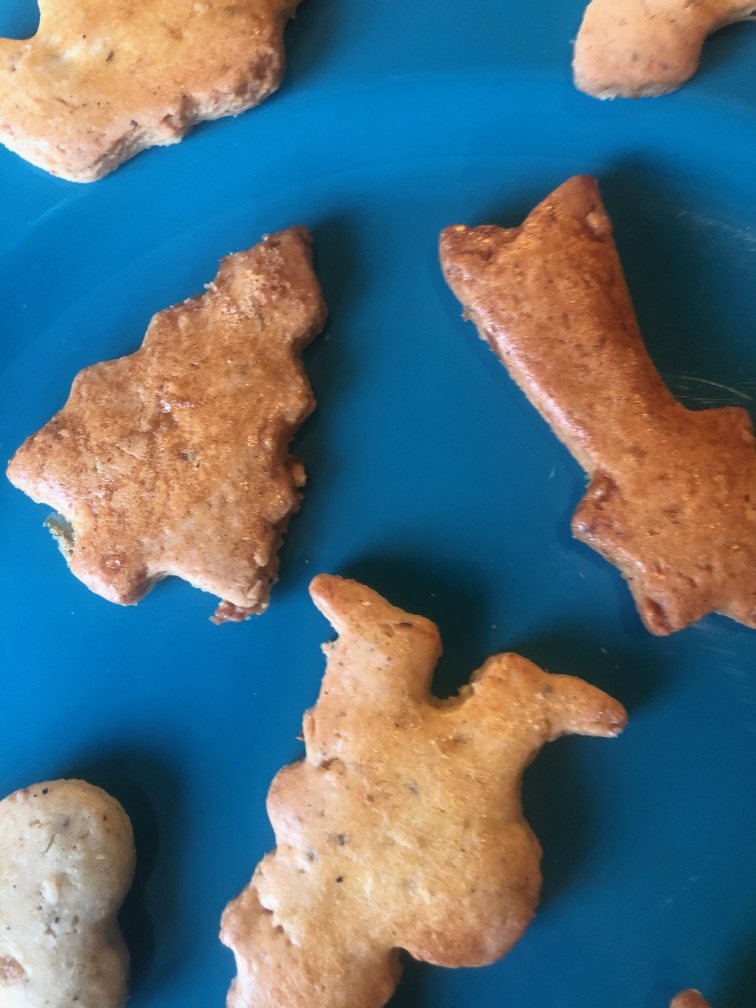christmas tree: (5, 225, 348, 613)
santa claus: (221, 572, 627, 1008)
shooting star: (433, 171, 756, 635)
